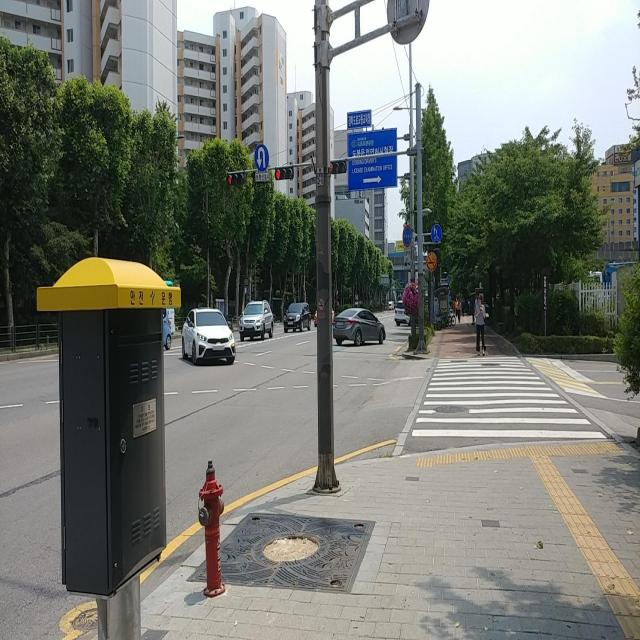횡단보도: (411, 356, 608, 441)
